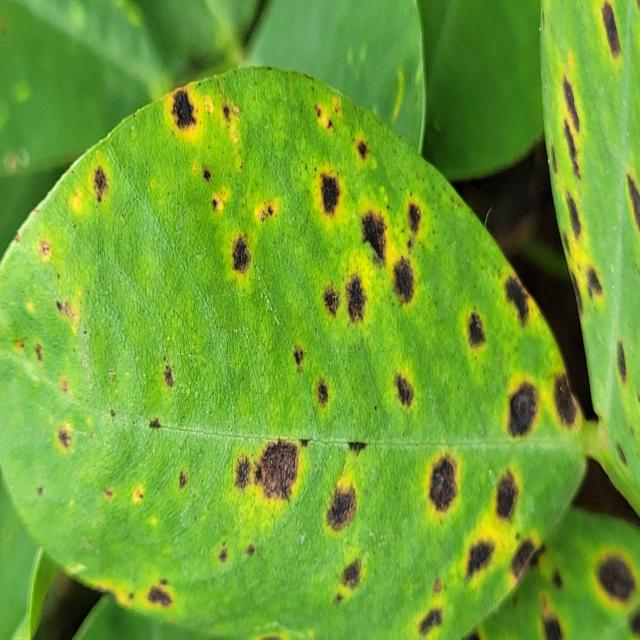Ground nut_tikka leaf spot: (0, 66, 586, 640)
